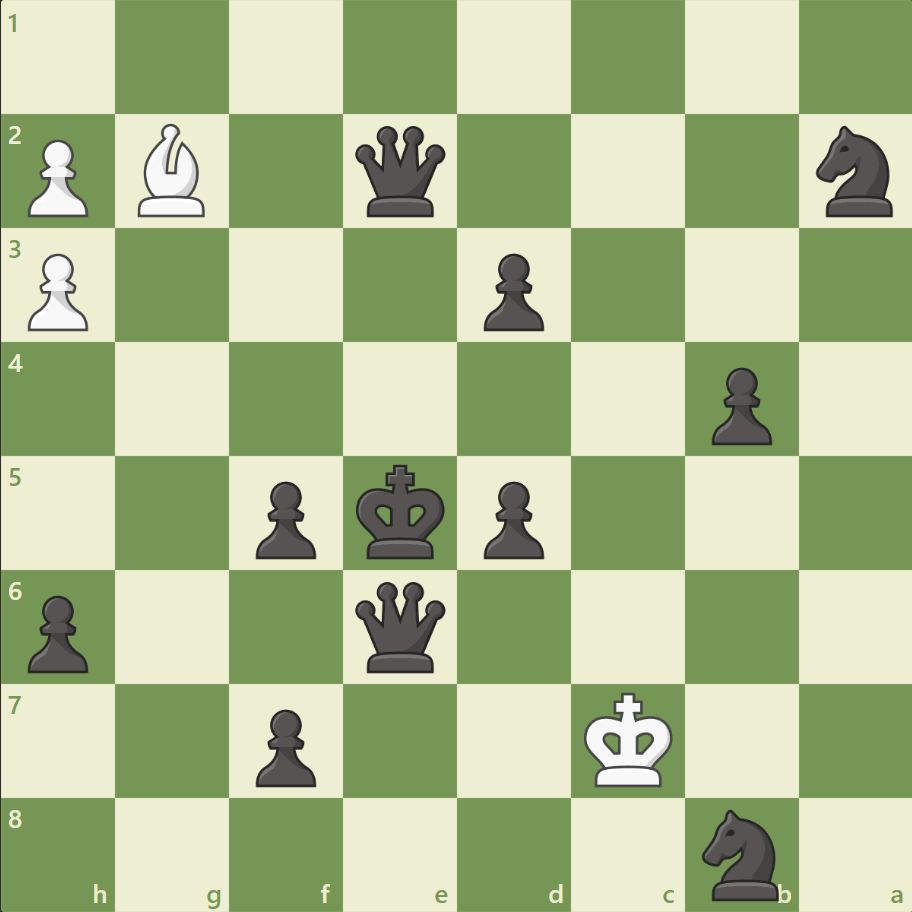B: (131, 120, 215, 222)
K: (579, 685, 679, 793)
P: (20, 246, 95, 337), (20, 132, 95, 223)
k: (351, 458, 451, 566)
n: (692, 802, 789, 904), (806, 121, 903, 223)
p: (247, 700, 322, 791), (20, 586, 95, 677), (474, 473, 549, 564), (247, 473, 322, 564), (701, 359, 776, 450), (474, 246, 549, 337)
q: (351, 576, 450, 676), (351, 122, 450, 222)
